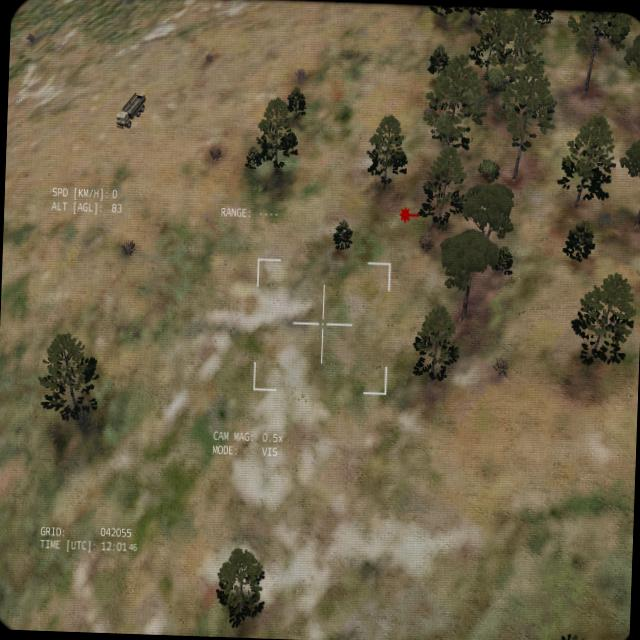truck: (114, 89, 145, 129)
